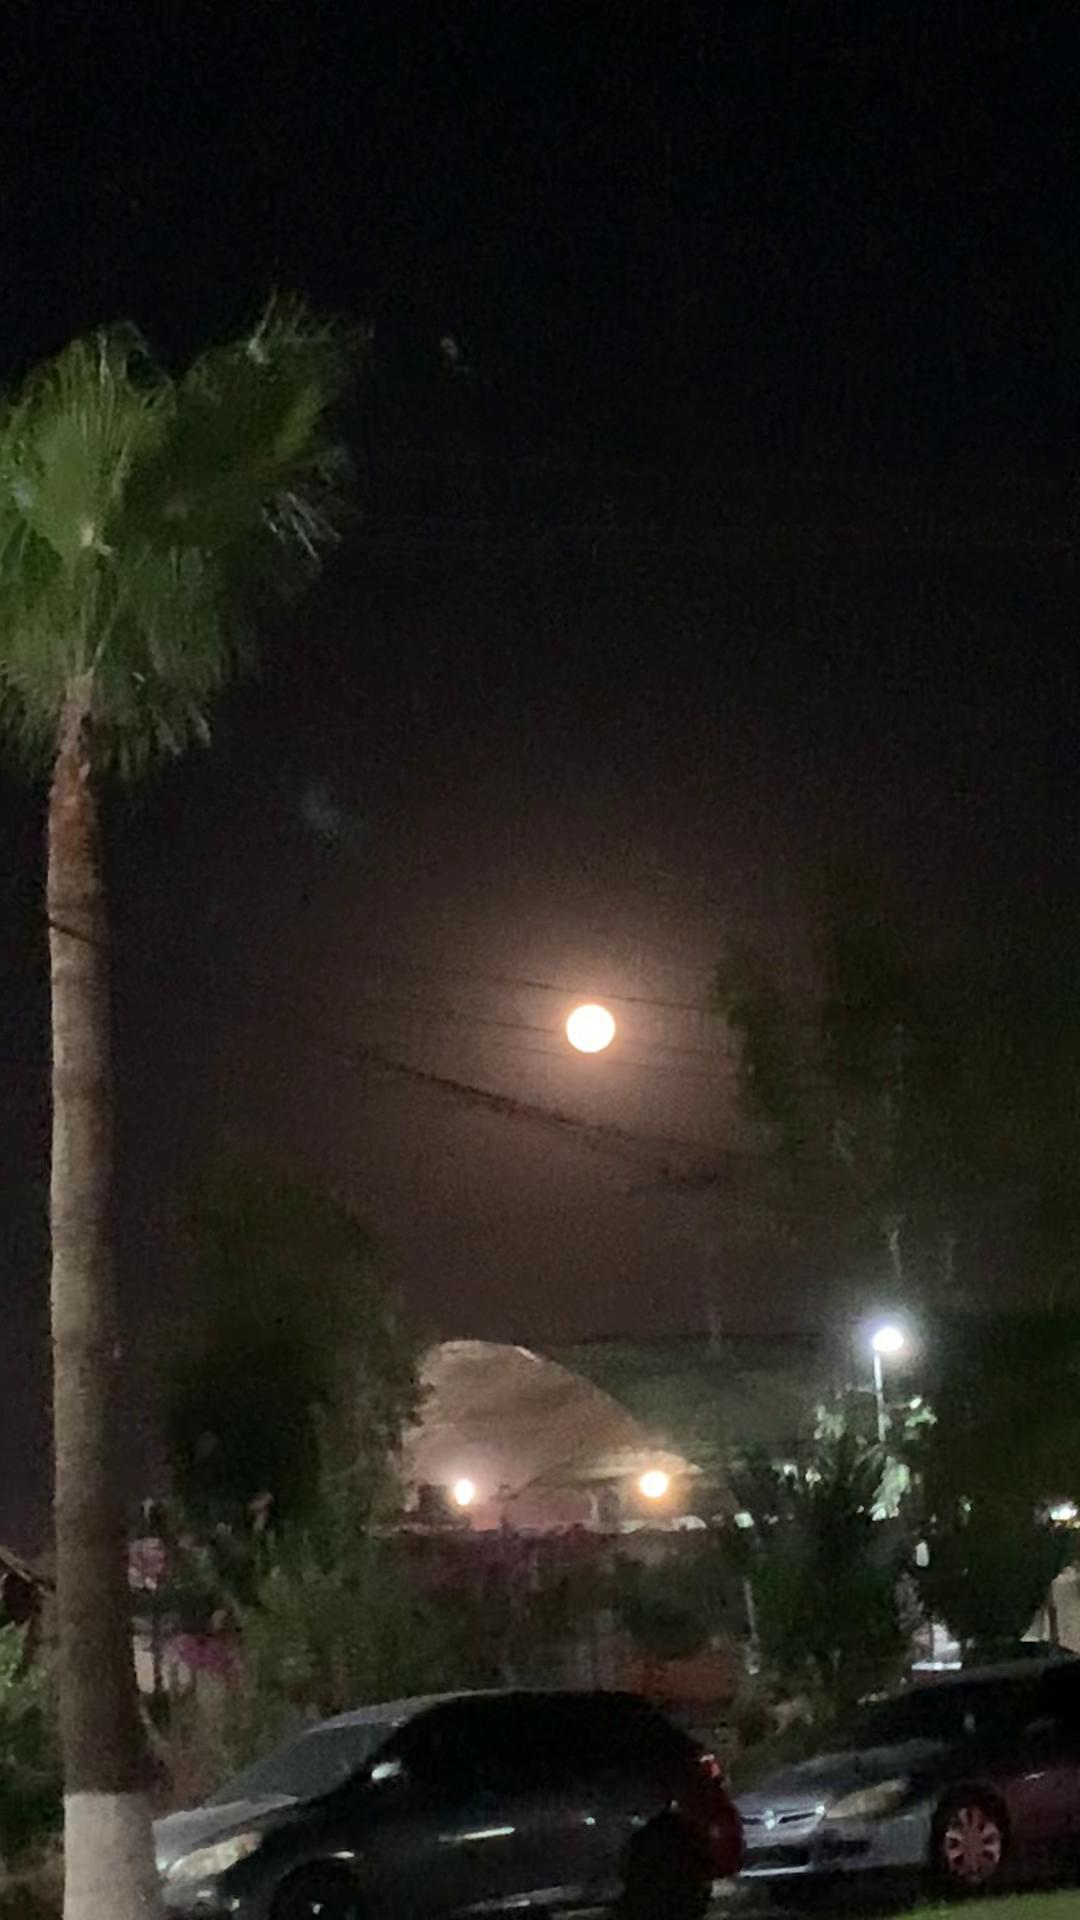moon: (547, 985, 629, 1044)
